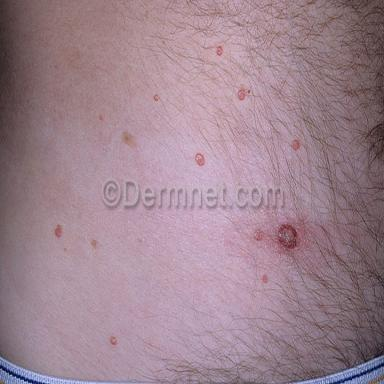Molluscum-Contagiosum: (195, 153, 205, 166), (253, 229, 263, 241), (292, 139, 300, 151), (55, 225, 62, 237), (238, 89, 245, 100), (216, 46, 223, 56), (110, 336, 116, 345), (263, 275, 268, 283), (154, 94, 158, 101), (64, 247, 67, 252)
